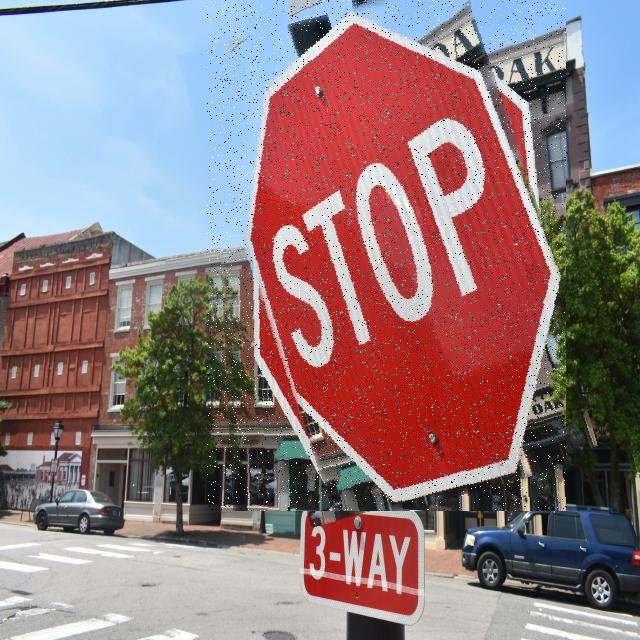stop: (207, 0, 566, 511)
